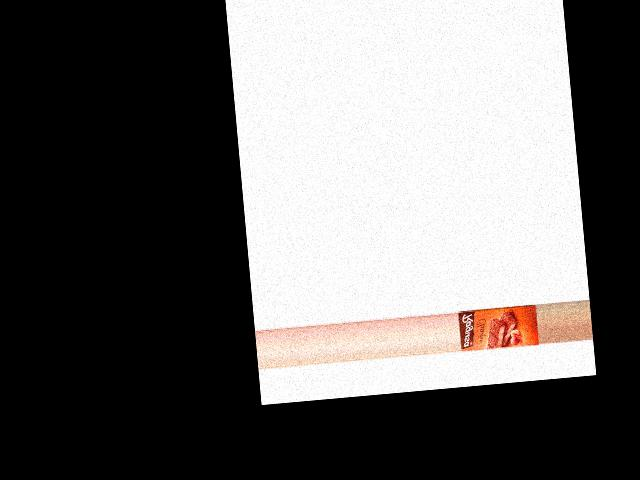chocolate: (458, 302, 540, 356)
